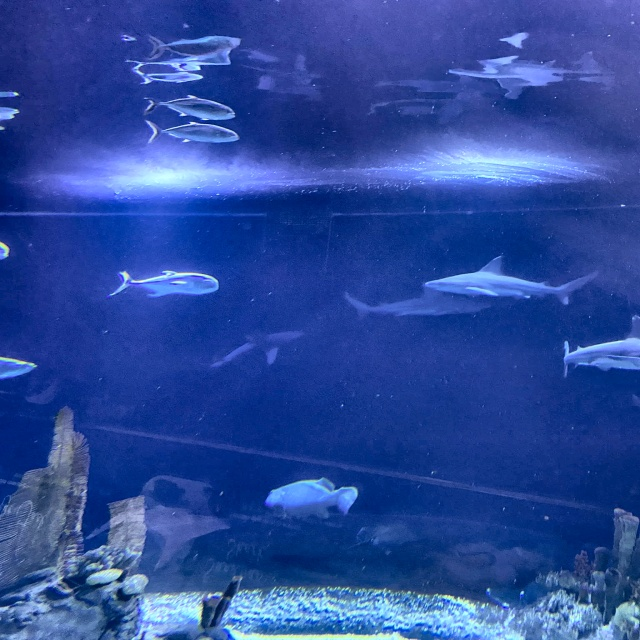fish: (265, 478, 357, 523), (105, 268, 222, 298), (141, 33, 250, 64), (142, 116, 244, 145), (139, 95, 238, 123), (128, 66, 206, 87)
shark: (423, 255, 599, 306), (199, 327, 301, 368), (345, 293, 512, 317), (562, 332, 639, 379)
